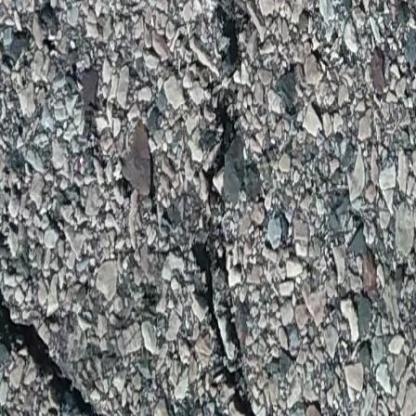Cracks: (183, 0, 281, 416), (0, 305, 115, 416)
